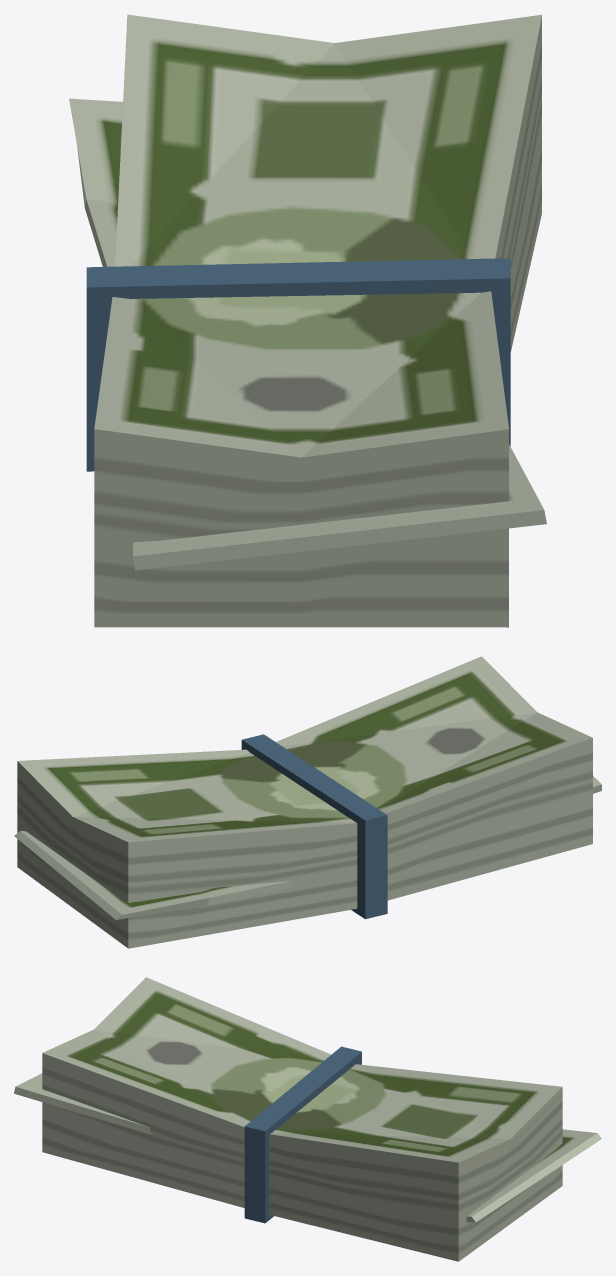
File: Room1.fbx
3 renders of one model, top to bottom at view 1: azimuth 30°, elevation 25°; view 2: azimuth 150°, elevation 25°; view 3: azimuth 270°, elevation 25°, orthographic. The views are drawn at different scales.
Visible parts, largest first — view 1: SM_Prop_Money_Strapped_04__1_; view 2: SM_Prop_Money_Strapped_04__1_; view 3: SM_Prop_Money_Strapped_04__1_.
Boxes of the visible parts, x1=… form: SM_Prop_Money_Strapped_04__1_: x1=69, y1=14, x2=546, y2=627; SM_Prop_Money_Strapped_04__1_: x1=14, y1=656, x2=601, y2=948; SM_Prop_Money_Strapped_04__1_: x1=14, y1=977, x2=601, y2=1261.
Bounding box in the file's own units: 24.48 × 7.12 × 32.79.
1 material, 1 textured.
